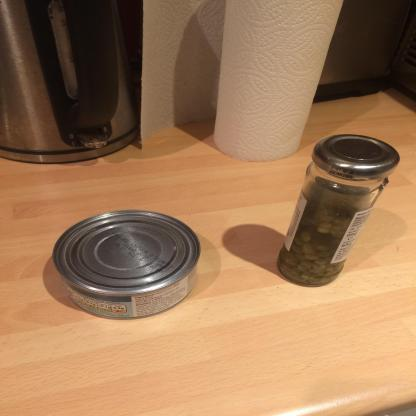cam: (278, 135, 402, 289)
metal: (53, 210, 203, 320)
